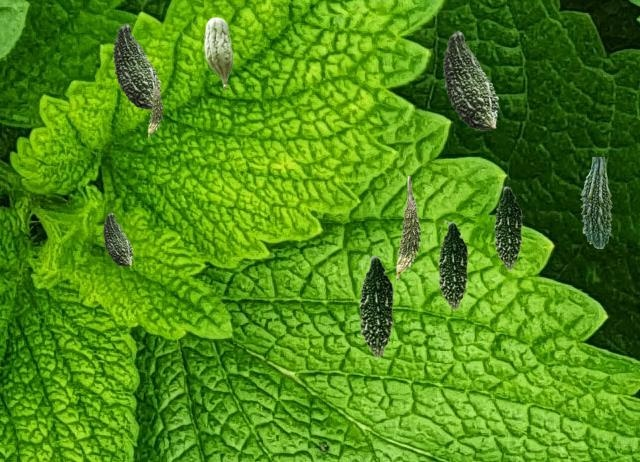ampalaya: (443, 30, 498, 129), (113, 23, 160, 108), (359, 254, 395, 358), (438, 220, 469, 310), (580, 157, 611, 247), (396, 176, 420, 280), (494, 185, 523, 270), (204, 17, 232, 88), (103, 212, 132, 265), (148, 75, 162, 137)
